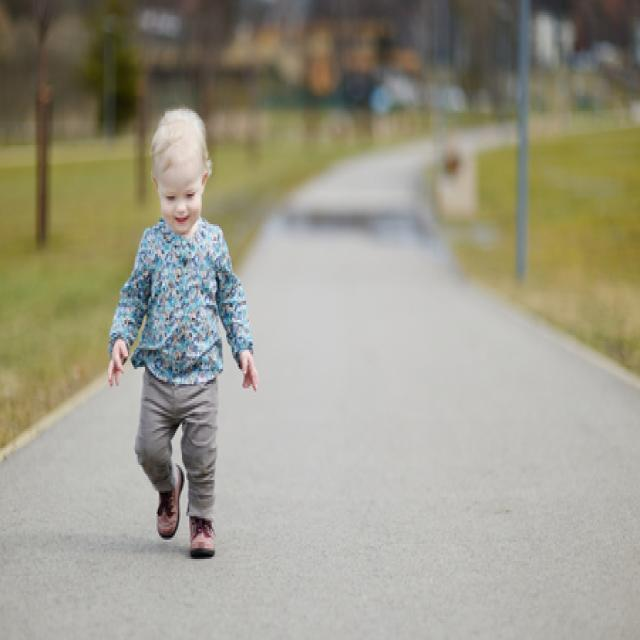Person: (108, 108, 259, 561)
